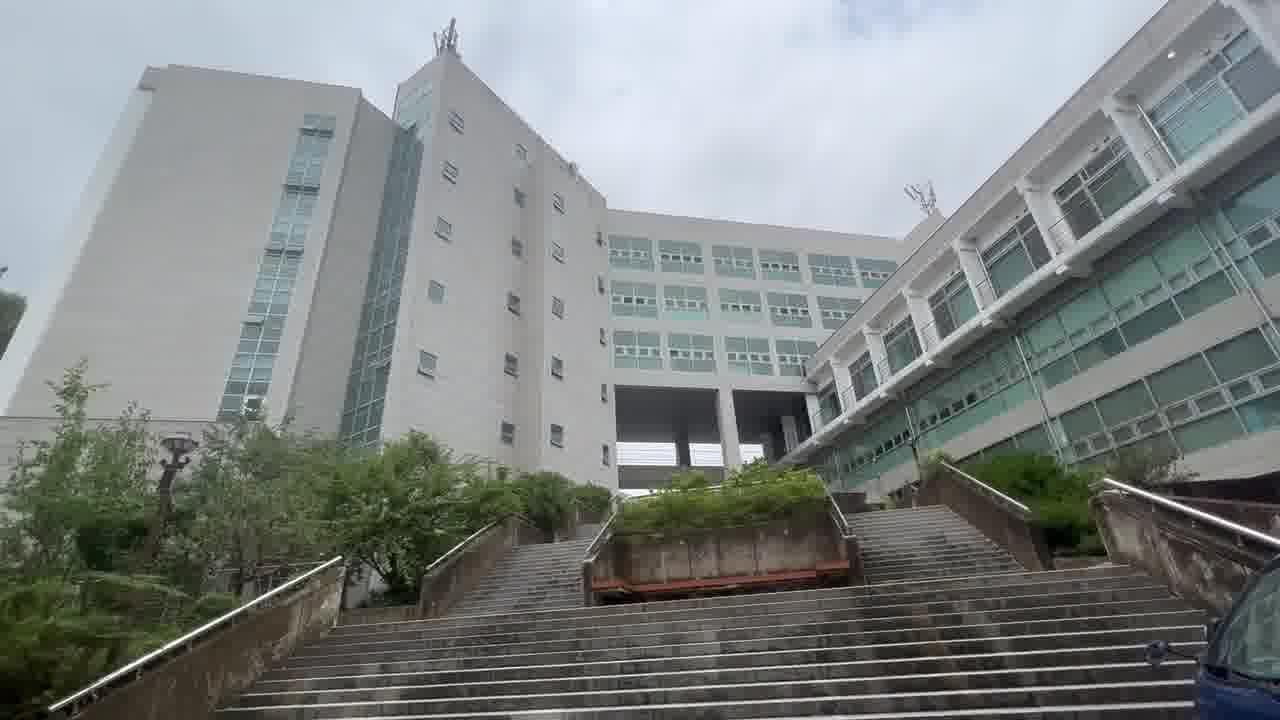building: (73, 76, 820, 426)
